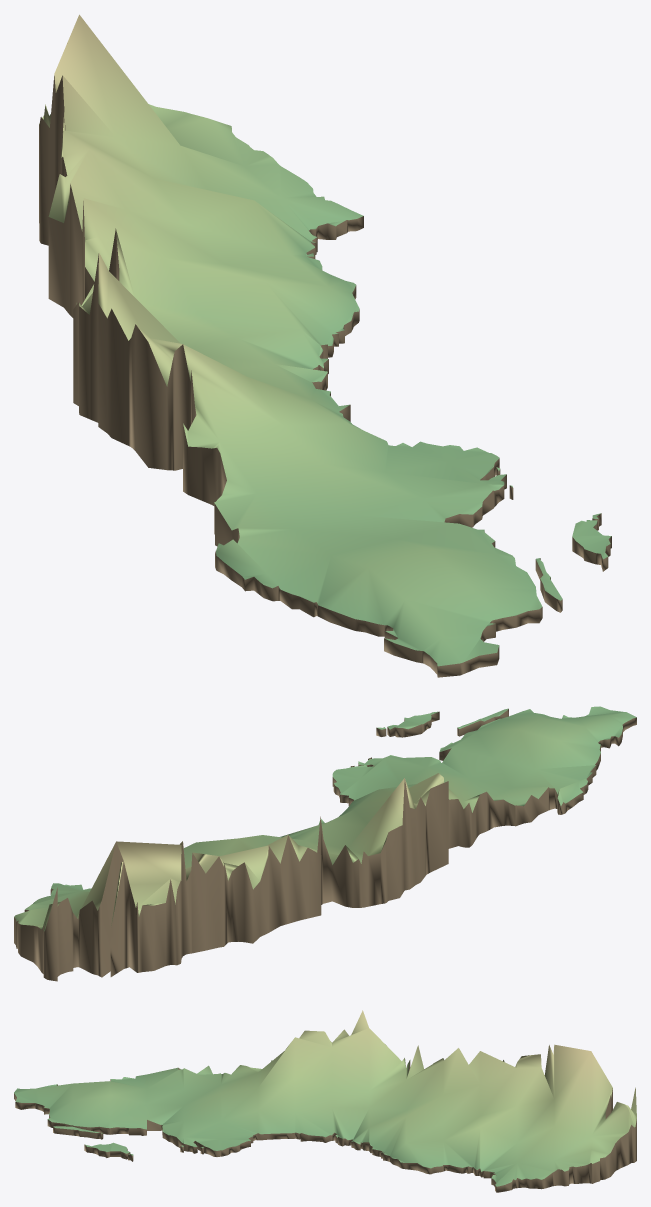
File: SWE.glb
The picture shows the model from 3 angles, top to bottom: view 1: azimuth 30°, elevation 25°; view 2: azimuth 150°, elevation 25°; view 3: azimuth 270°, elevation 25°; orthographic projection. The views are drawn at different scales.
Visible parts, largest first — view 1: SWE; view 2: SWE; view 3: SWE.
Boxes of the visible parts, x1,y1,x2,y2 form: SWE: (39,14,611,677); SWE: (14,706,636,981); SWE: (14,1010,636,1192).
Size of the model in its own units: 0.7731 by 0.3051 by 1.81.
